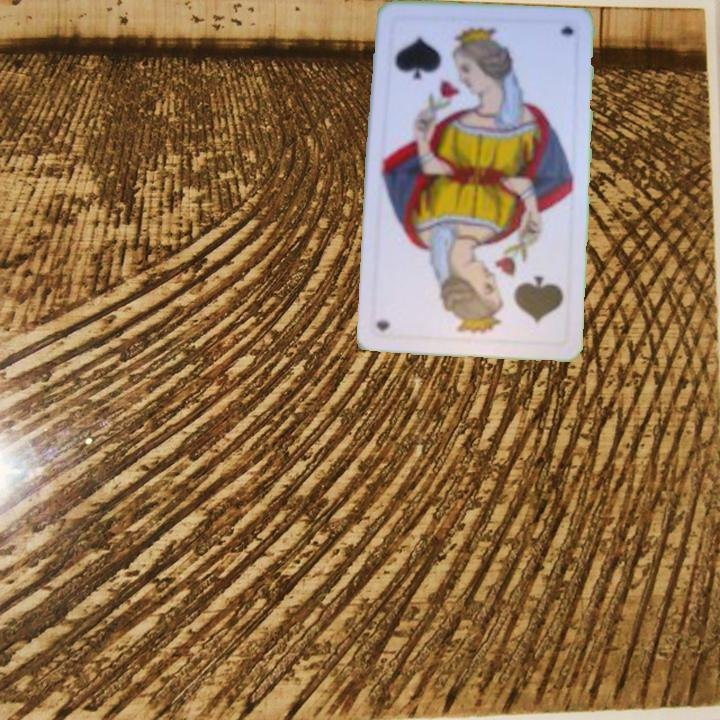s_q.png: (384, 15, 488, 105), (467, 255, 571, 345)
